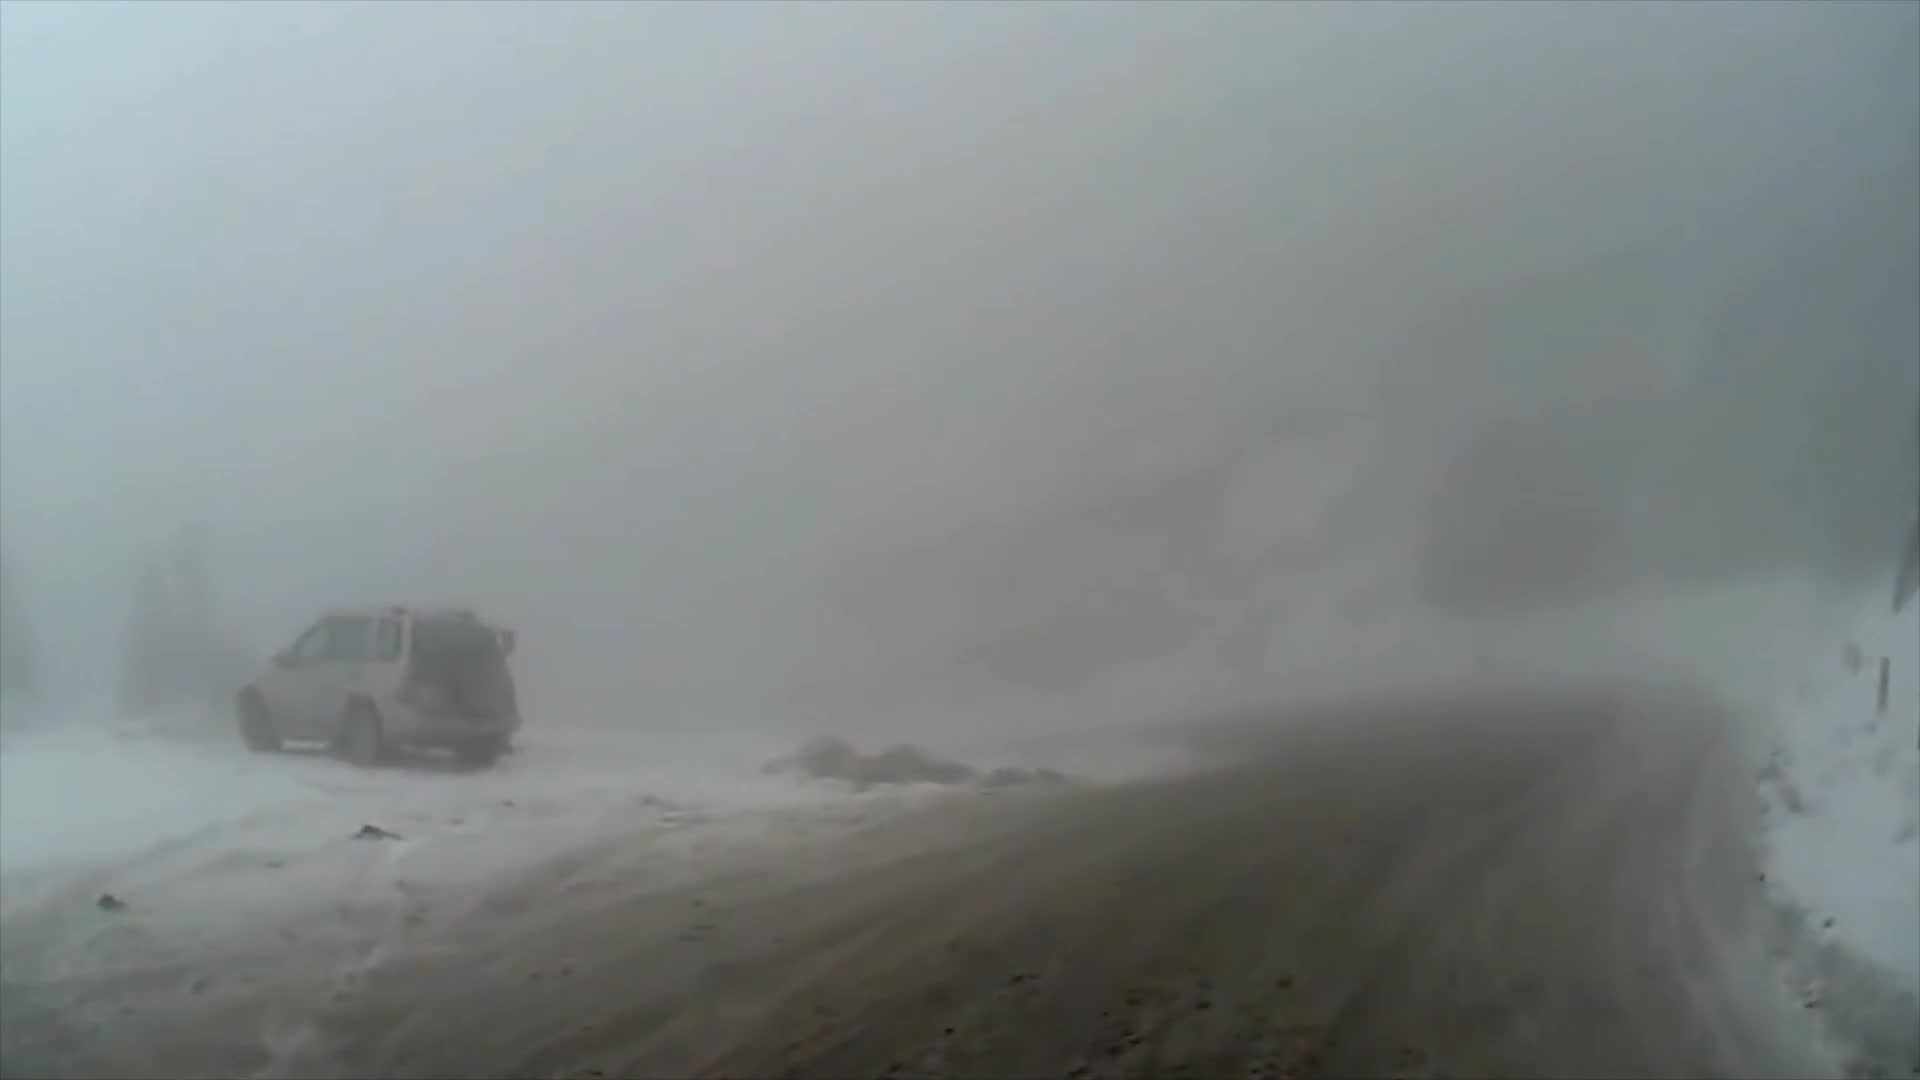vehicle: (232, 597, 513, 767)
